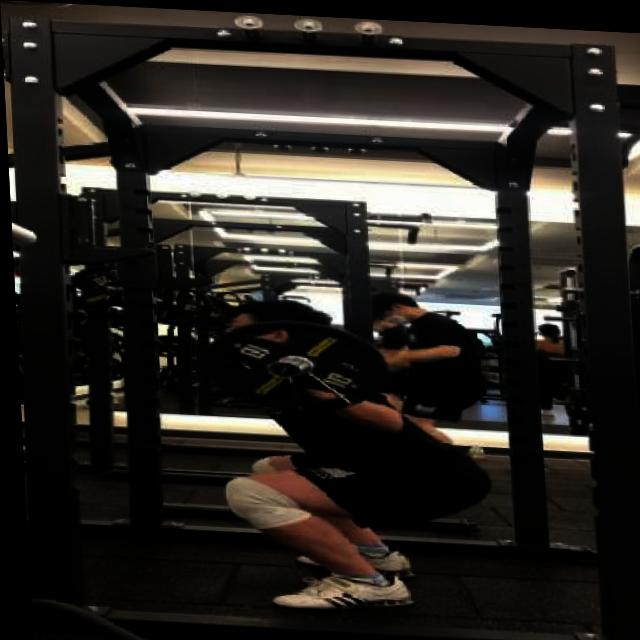barbell: (198, 312, 390, 423)
